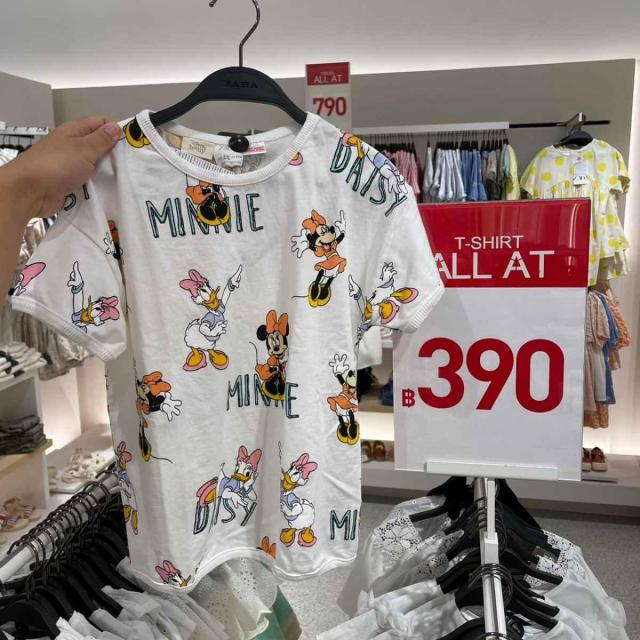Tshirt: (0, 104, 441, 586)
